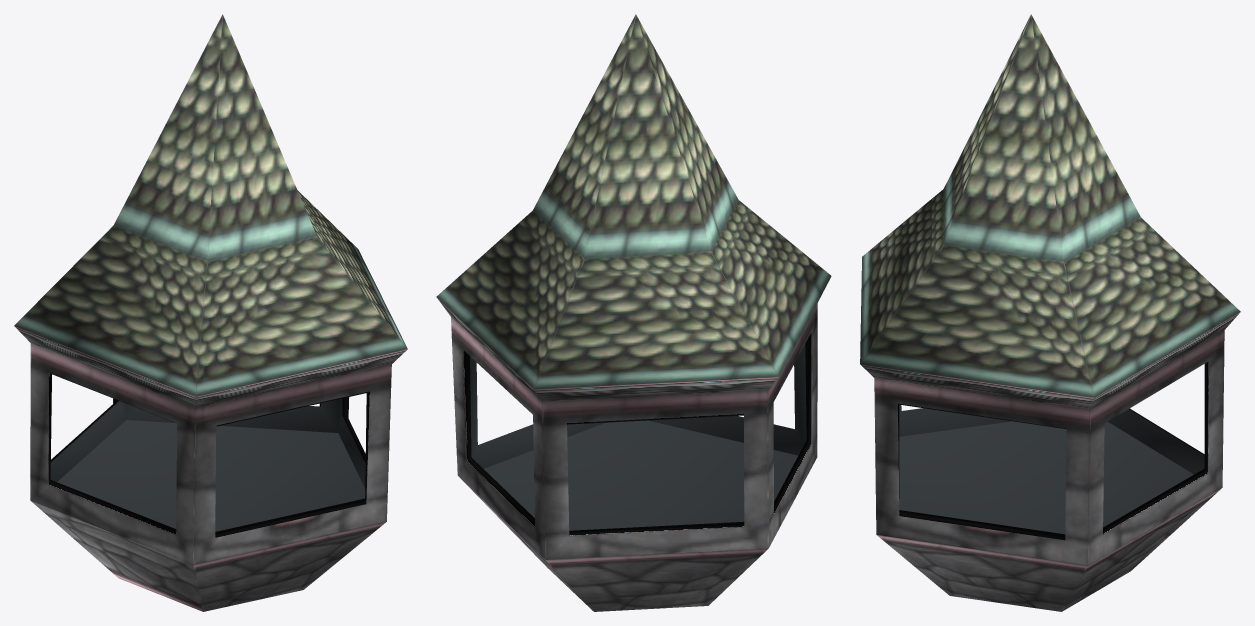
Rendered from TowerFirePlace.glb.
3 views of the same model, side by side, from view 1: azimuth 30°, elevation 25°; view 2: azimuth 150°, elevation 25°; view 3: azimuth 270°, elevation 25° (orthographic).
Visible parts, largest first — view 1: TowerFirePlace; view 2: TowerFirePlace; view 3: TowerFirePlace.
Boxes of the visible parts, box(x1,y1,x2,y2) form: TowerFirePlace: box(14, 14, 407, 611); TowerFirePlace: box(436, 14, 831, 611); TowerFirePlace: box(860, 14, 1240, 611).
Size of the model in its own units: 5.99 by 9.31 by 5.71.
1 material, 1 textured.
